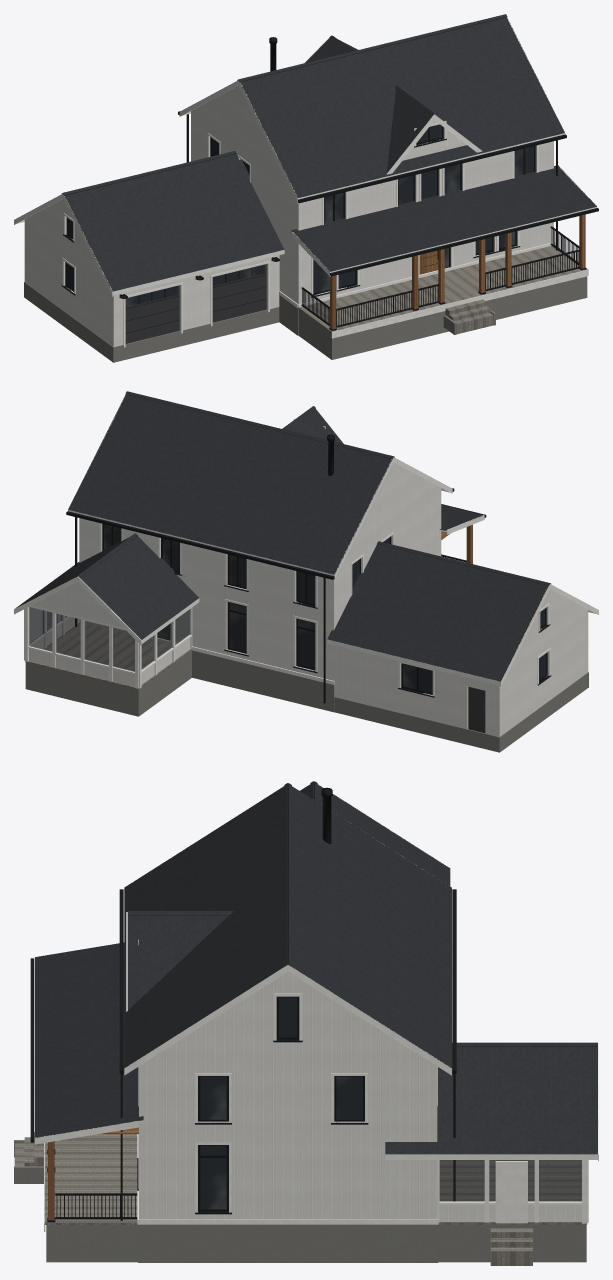
Rendered from al-hassan-house.glb.
The picture shows the model from 3 angles, top to bottom: view 1: azimuth 30°, elevation 25°; view 2: azimuth 150°, elevation 25°; view 3: azimuth 270°, elevation 25°; orthographic projection. The views are drawn at different scales.
Parts seen in each view (by area): view 1: Roof, House, Porch; view 2: Roof, House, Porch; view 3: Roof, House, Porch.
Boxes of the visible parts, box(x1,y1,x2,y2) form: Roof: box(14, 14, 598, 296); House: box(24, 37, 557, 362); Porch: box(298, 214, 588, 359); Roof: box(14, 391, 598, 686); House: box(75, 419, 588, 752); Porch: box(24, 524, 472, 716); Roof: box(30, 781, 598, 1161); House: box(120, 787, 455, 1262); Porch: box(14, 1127, 588, 1265).
Size of the model in its own units: 22 by 11.19 by 18.03.
Materials: 13 (9 with a texture image).
